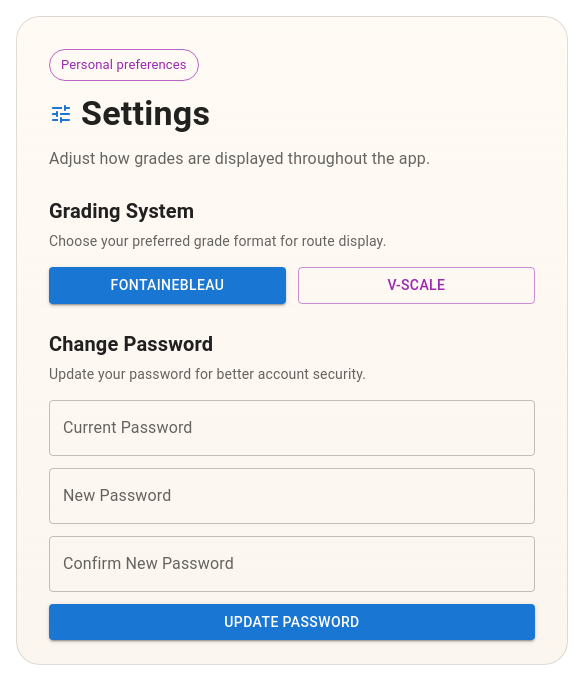
Scenario: UserSettings Page › should change password from settings
Type "oldpassword" into the password field labelled "Current Password" at x=292, y=428, box left=49, top=400, right=535, bottom=456
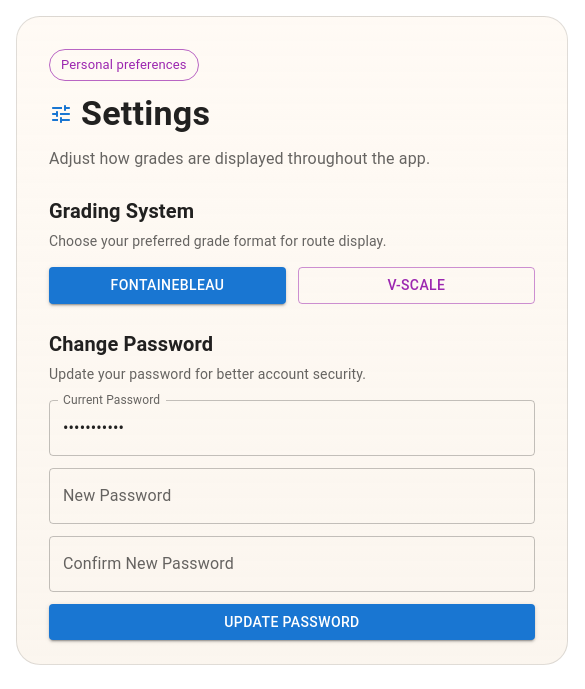
Type "newpassword123" into the password field labelled "New Password" at x=292, y=496, box left=49, top=468, right=535, bottom=524
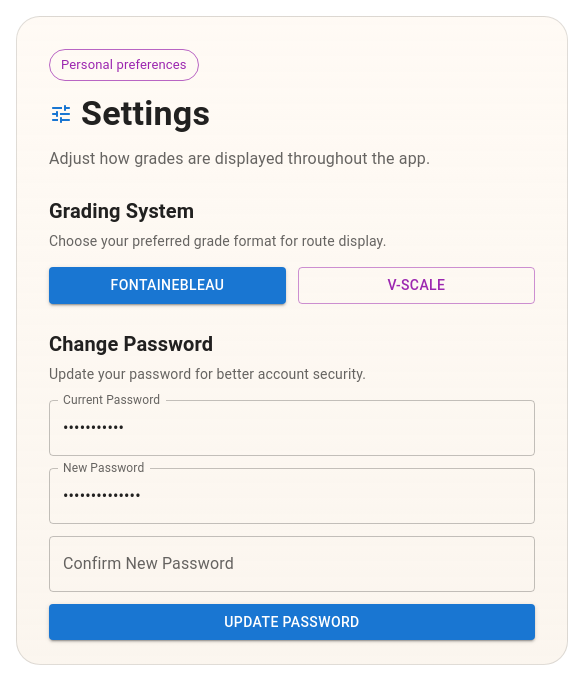
Type "newpassword123" into the password field labelled "Confirm New Password" at x=292, y=564, box left=49, top=536, right=535, bottom=592
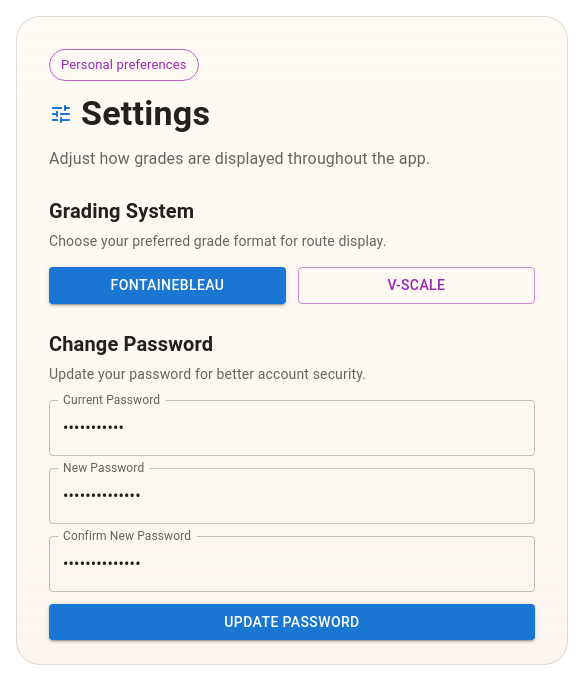
Click the button "Update Password" at x=292, y=622, box left=49, top=604, right=535, bottom=640
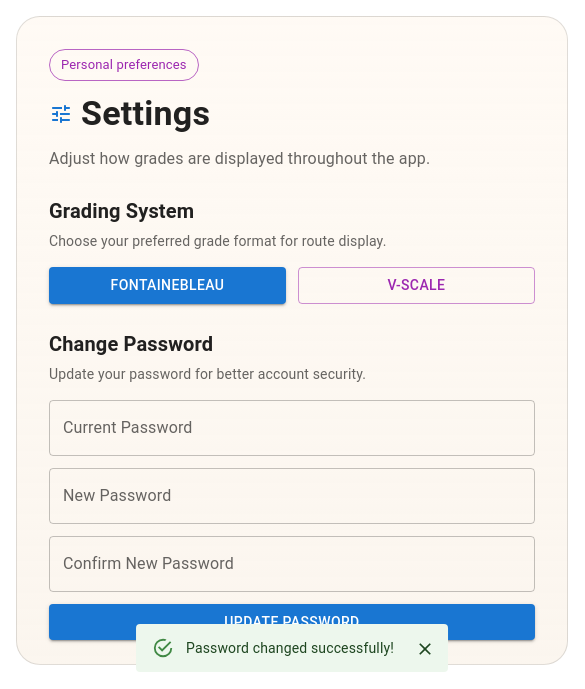
Expected: the text "Password changed successfully!" is shown, left=186, top=640, right=394, bottom=656
